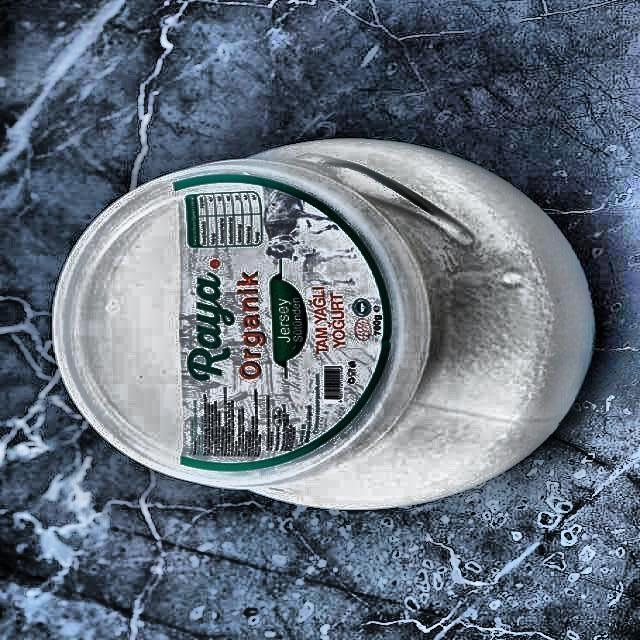plastic: (54, 140, 592, 508)
